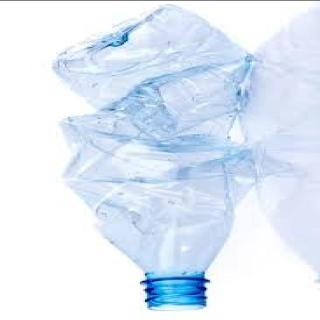Anorganik: (46, 0, 266, 316)
